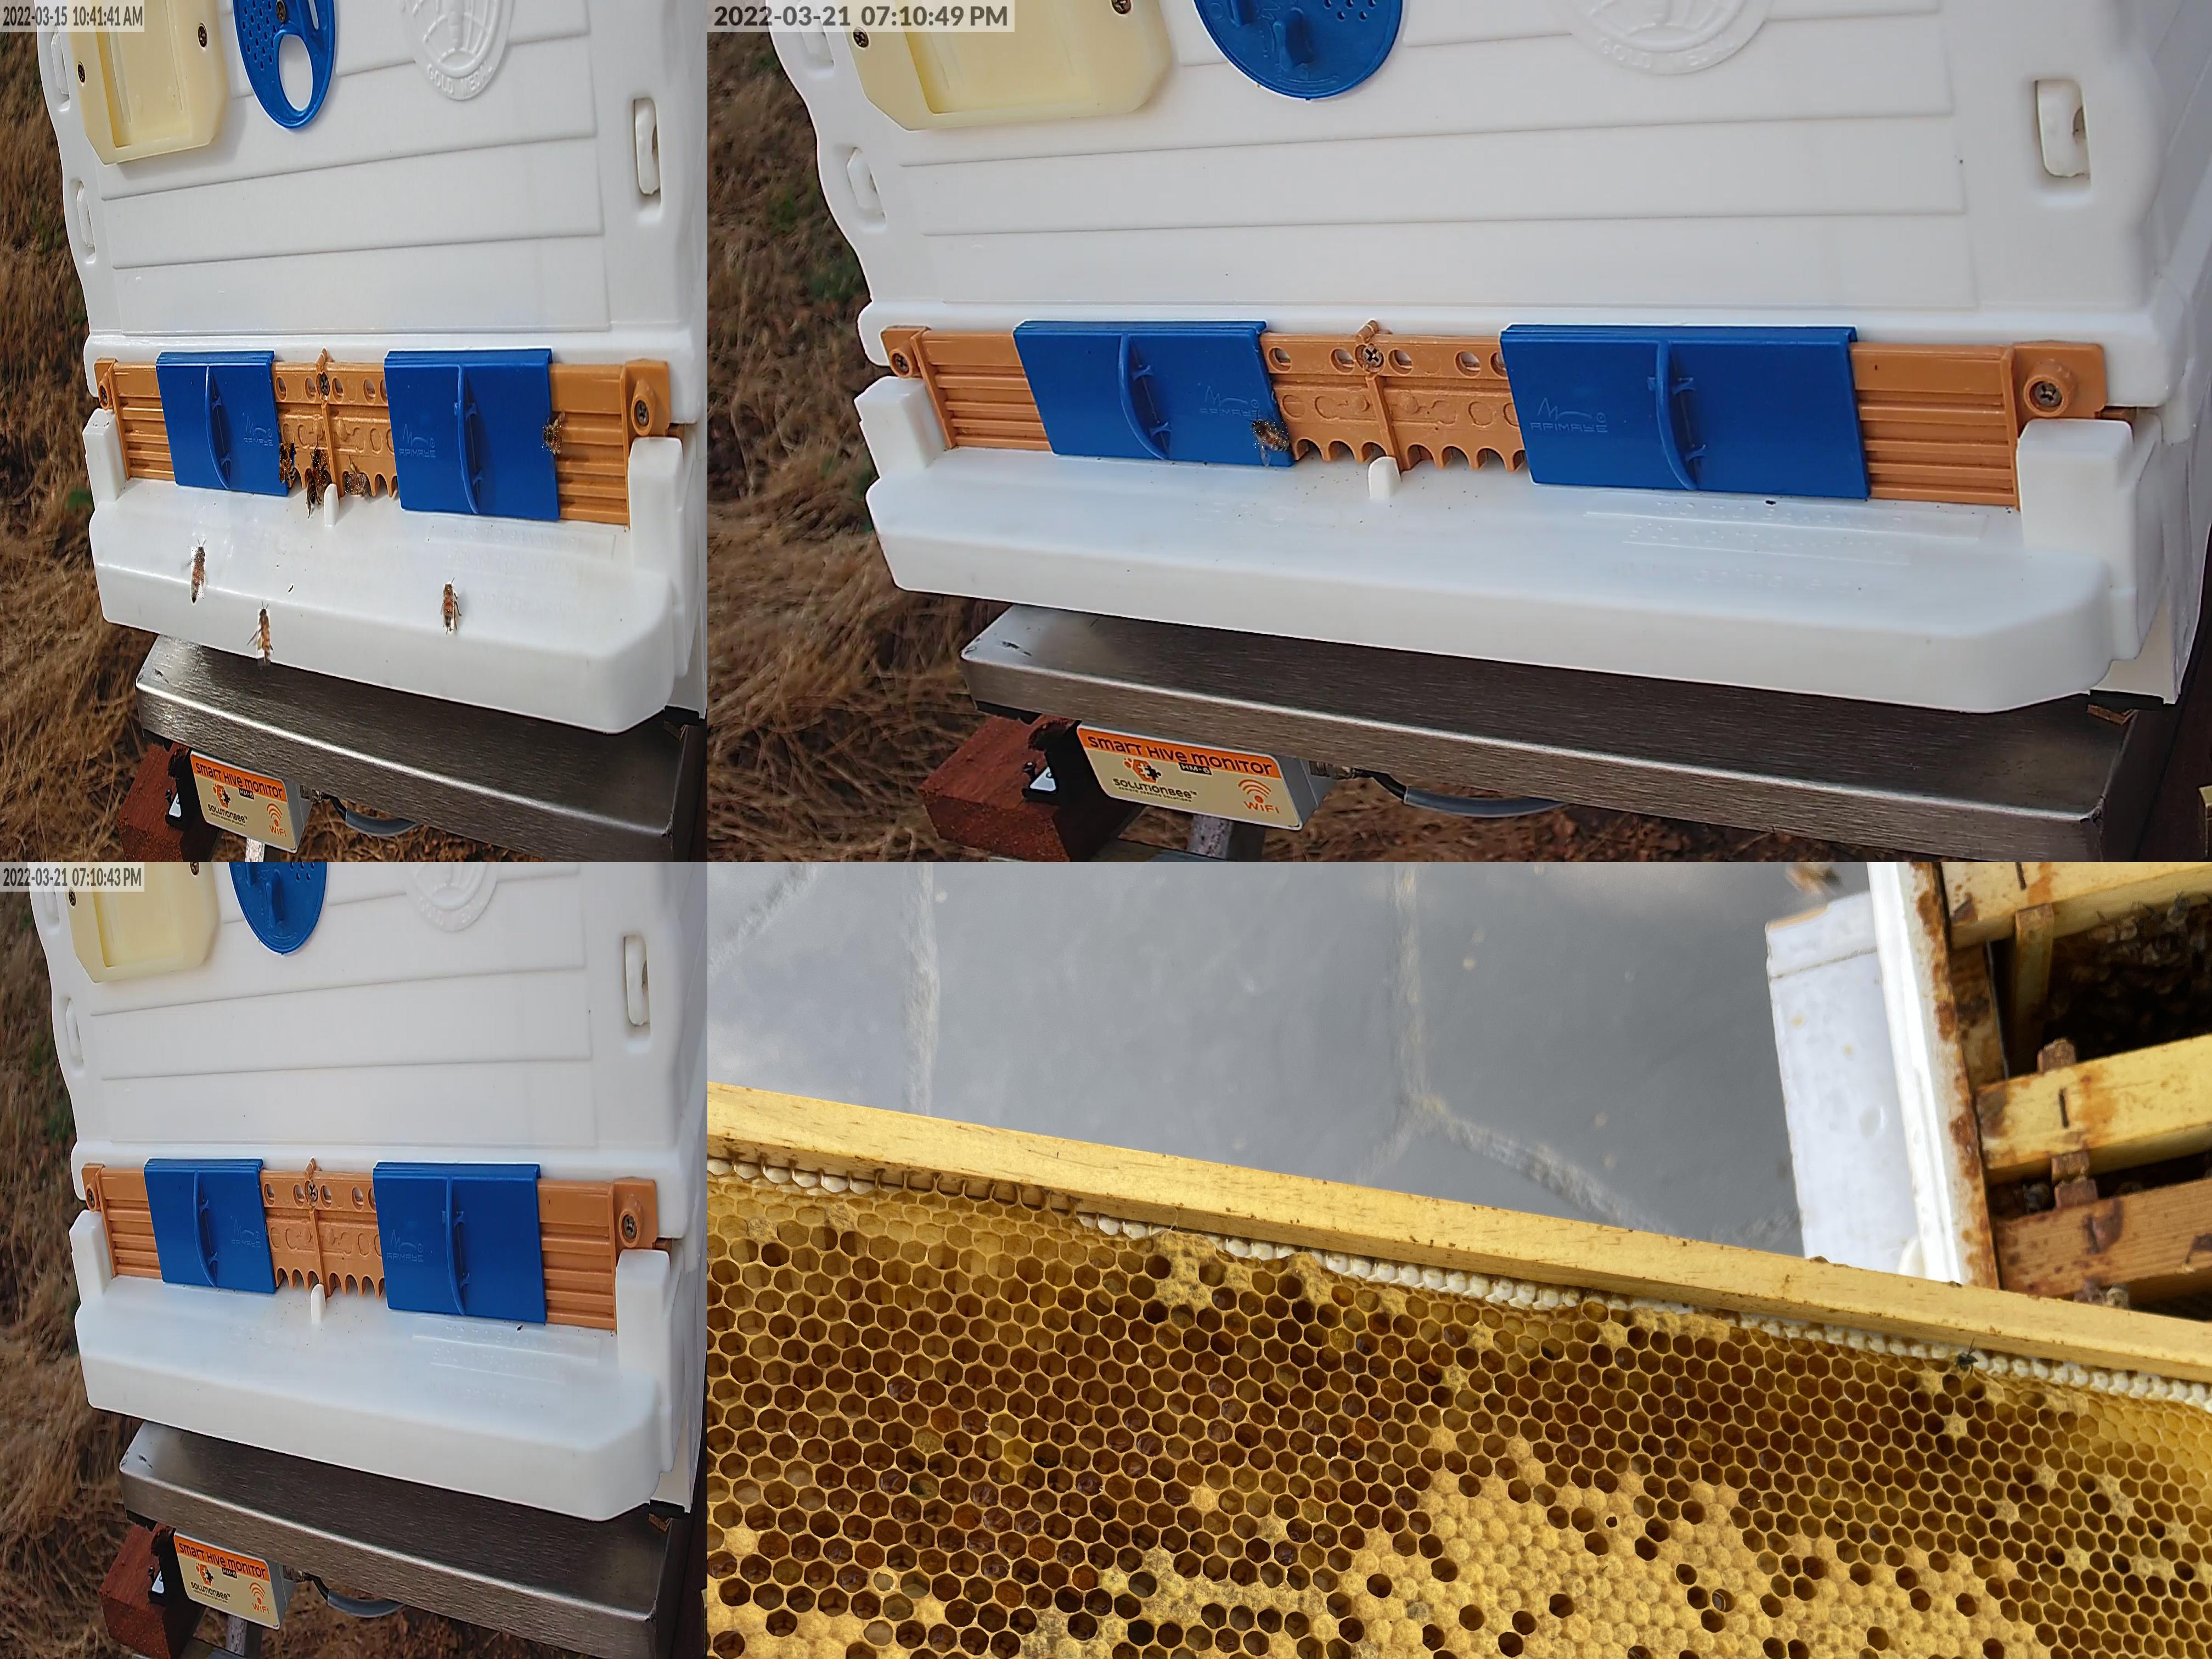bee: (1252, 422, 1289, 450), (312, 450, 327, 486), (542, 425, 563, 451), (280, 443, 294, 481), (444, 586, 455, 631), (345, 474, 368, 493), (307, 474, 317, 509)
pollenbee: (258, 610, 272, 669), (192, 547, 204, 599)
